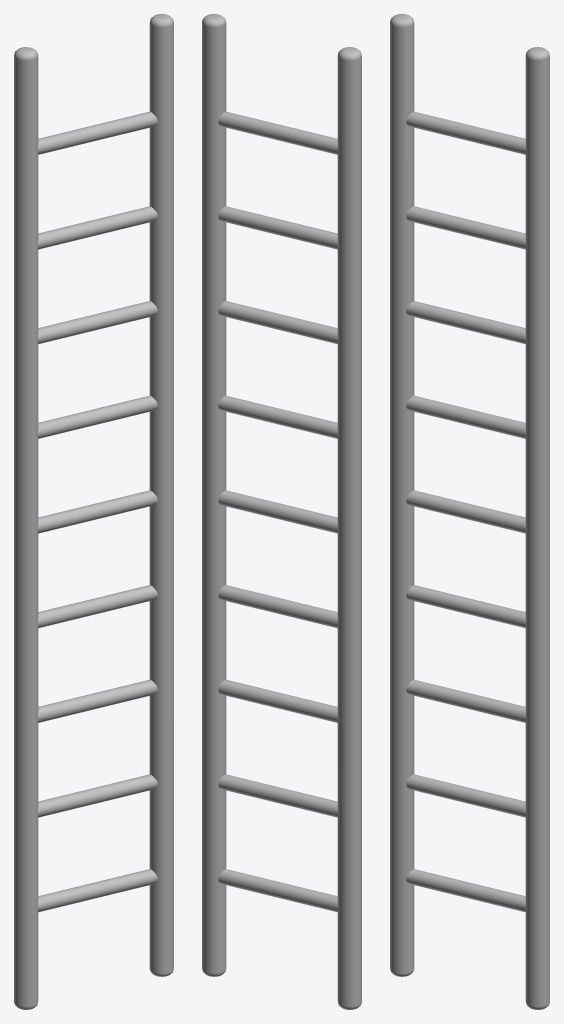
Rendered from City_13_Stairs_2.glb.
3 views of the same model, side by side, from view 1: azimuth 30°, elevation 25°; view 2: azimuth 150°, elevation 25°; view 3: azimuth 330°, elevation 25° (orthographic).
Parts seen in each view (by area): view 1: City_13_Stairs_2; view 2: City_13_Stairs_2; view 3: City_13_Stairs_2.
Boxes of the visible parts, <box> form: City_13_Stairs_2: <box>14,14,173,1009</box>; City_13_Stairs_2: <box>202,14,361,1009</box>; City_13_Stairs_2: <box>390,14,549,1009</box>.
Size of the model in its own units: 0.6936 by 4.04 by 0.0936.
1 material, 1 textured.
